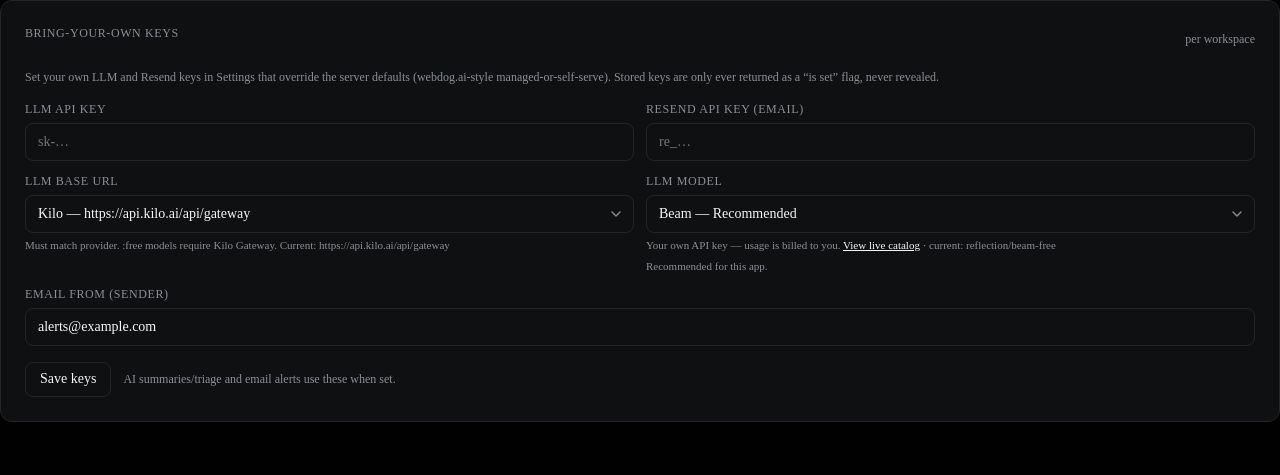
Test: WorkspaceKeys › never renders an entered key and sends an explicit base with it
Type "sk-private-value" into the password field with placeholder "sk-…" at (330, 142), box [25,123,634,161]
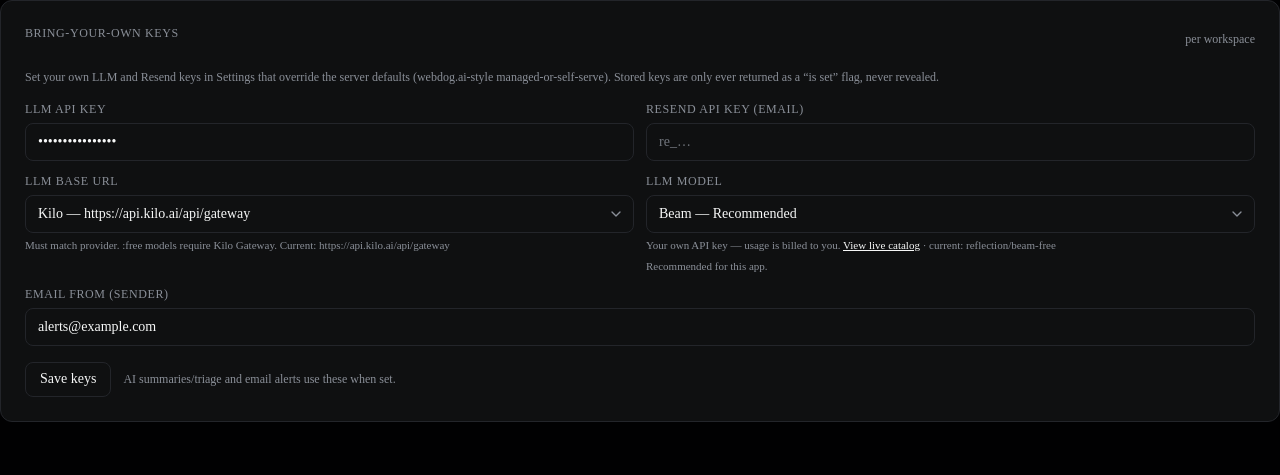
Click the button "Save keys" at (68, 379), box [25,362,111,397]
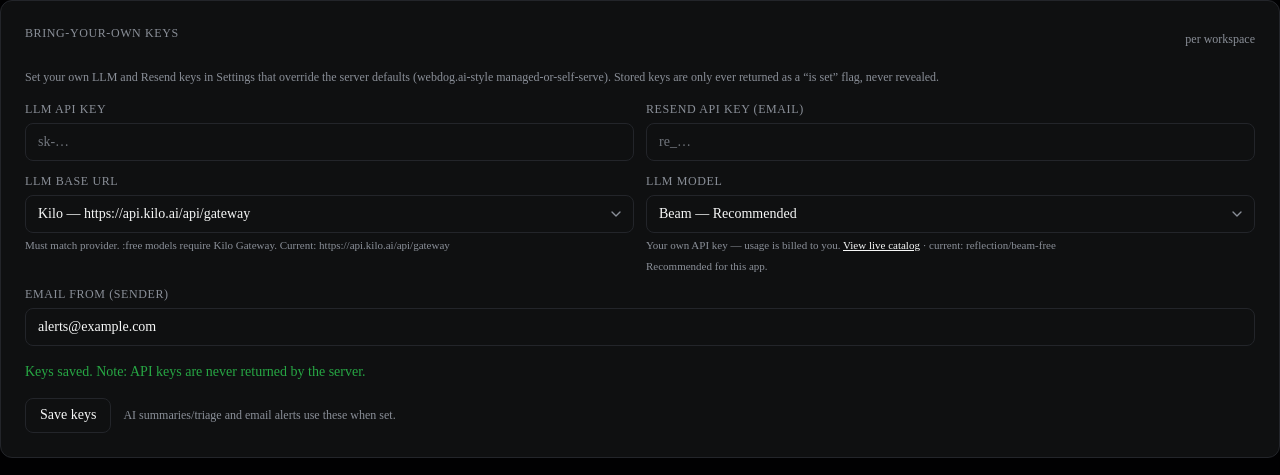
Result: the password field with placeholder "sk-…" is empty at [25,123,634,161]
